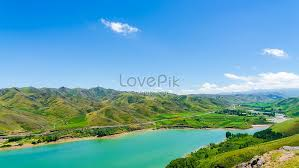lake: (5, 127, 253, 168)
mountain: (2, 85, 294, 128)
sky: (3, 2, 299, 92)
